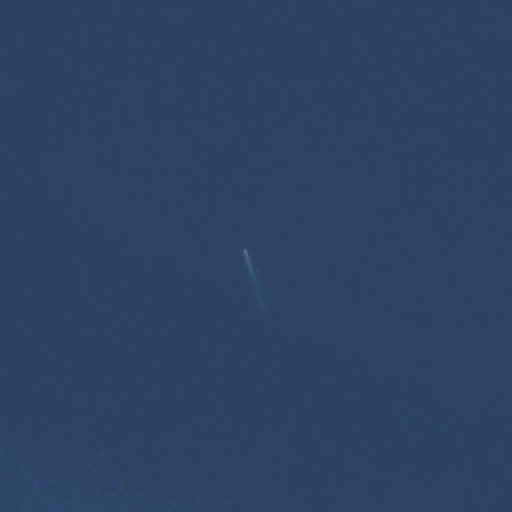ship: (238, 243, 252, 258)
